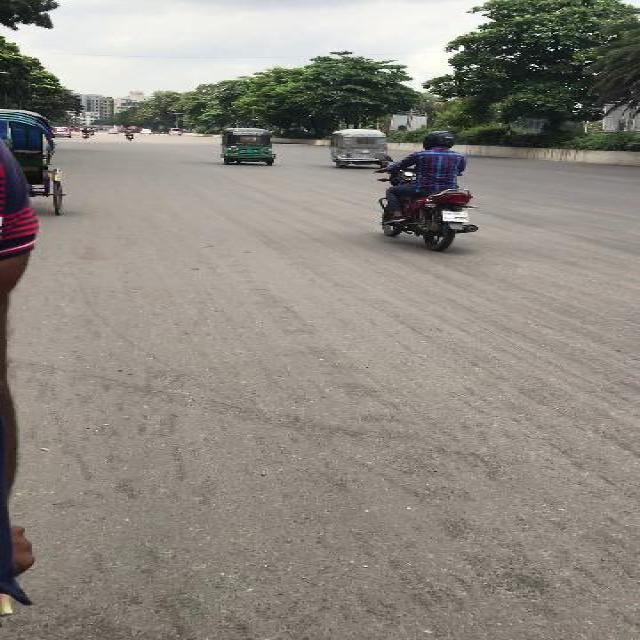bike: (376, 157, 479, 254), (125, 129, 134, 140), (81, 129, 88, 140), (90, 129, 93, 136)
vehicle: (1, 109, 53, 217), (217, 127, 276, 167), (328, 129, 378, 169), (53, 127, 71, 139), (169, 129, 181, 136), (141, 130, 153, 135), (108, 129, 118, 134)
